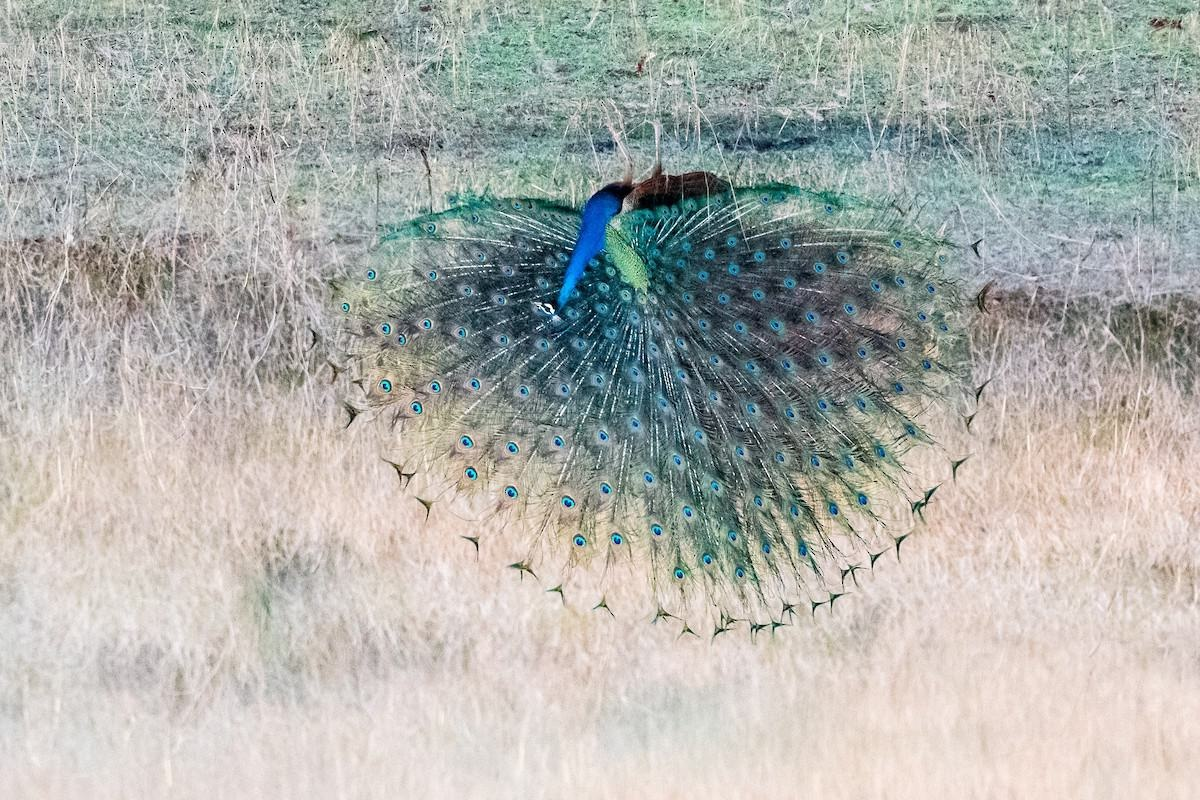peacock: (379, 120, 995, 596)
